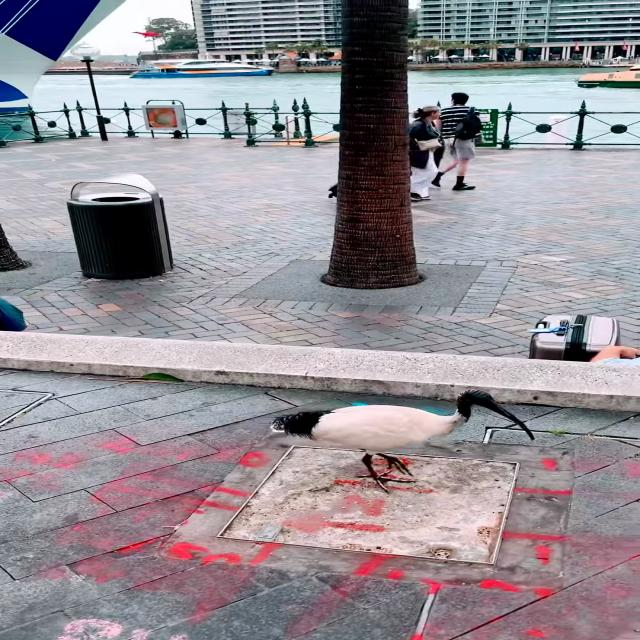Birds-Ibis: (264, 386, 538, 498)
